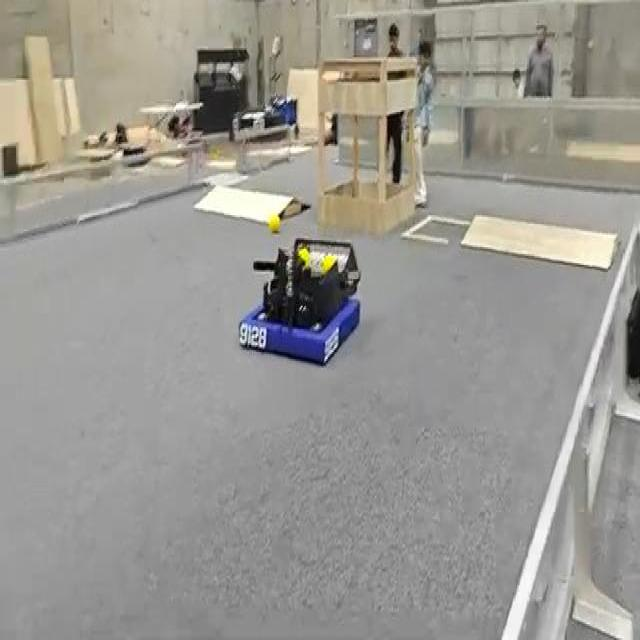Fuel: (267, 213, 280, 231)
